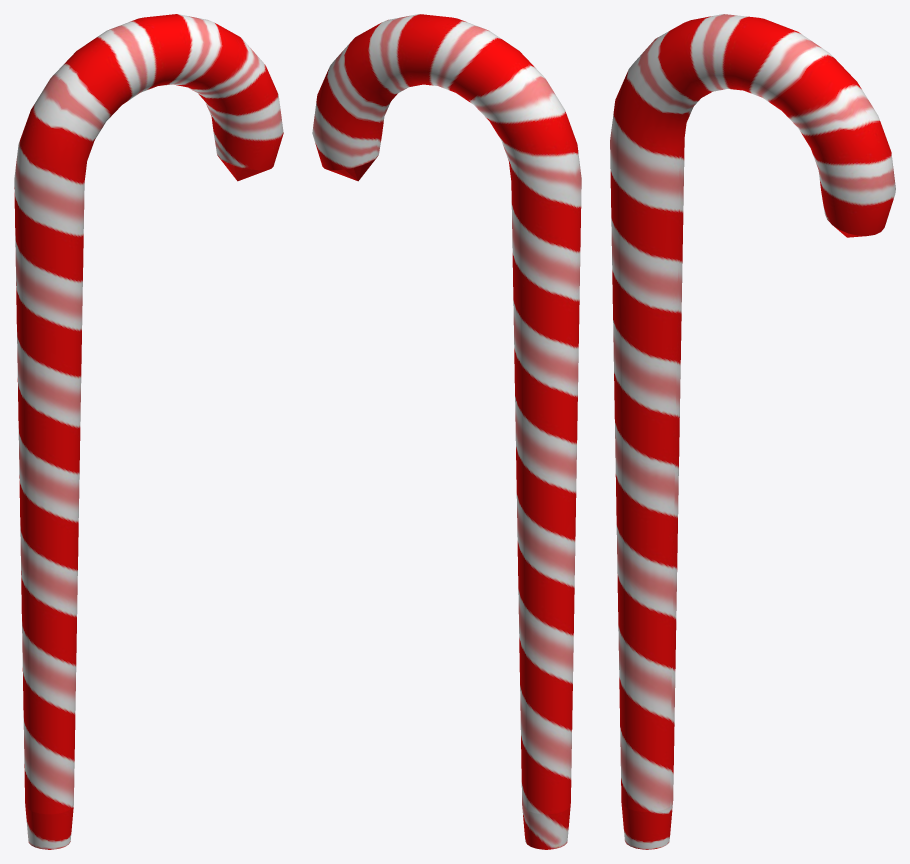
The model's file is candy.fbx.
3 views of the same model, side by side, from view 1: azimuth 30°, elevation 25°; view 2: azimuth 150°, elevation 25°; view 3: azimuth 330°, elevation 25° (orthographic). The views are drawn at different scales.
Parts seen in each view (by area): view 1: rock_candy:candy; view 2: rock_candy:candy; view 3: rock_candy:candy.
Boxes of the visible parts, x1,y1,x2,y2 form: rock_candy:candy: [14, 14, 283, 849]; rock_candy:candy: [312, 14, 581, 849]; rock_candy:candy: [610, 14, 895, 849].
Size of the model in its own units: 9.91 by 29.3 by 2.33.
Materials: 1 (1 with a texture image).
